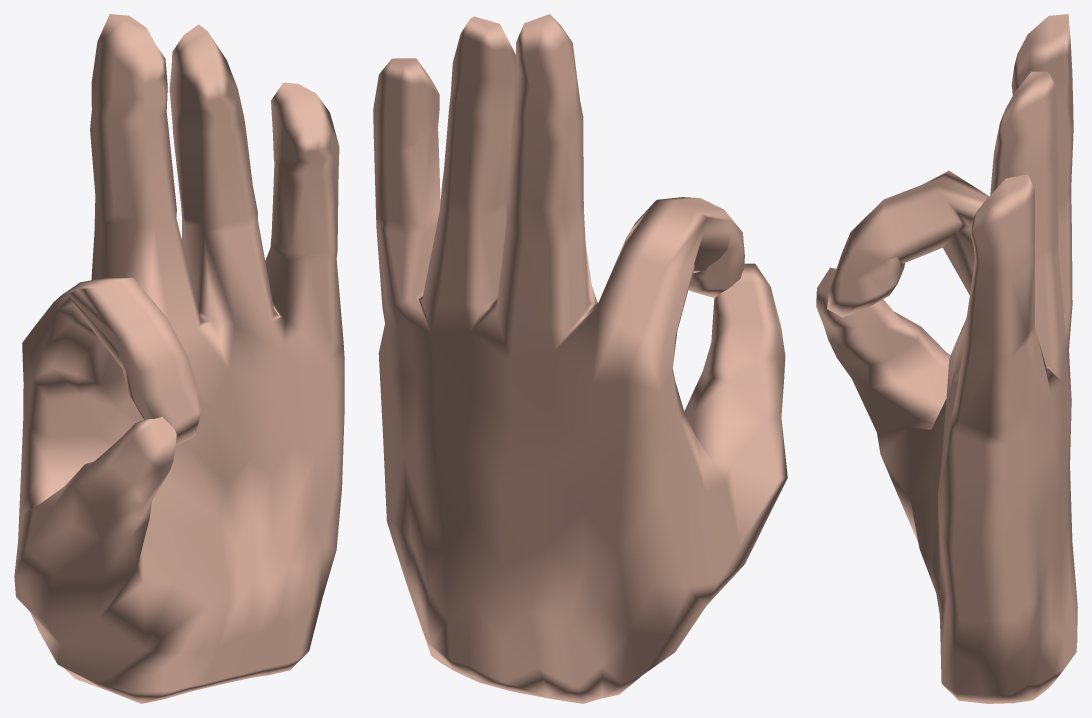
The model's file is MAO_CERTO.obj.
3 views of the same model, side by side, from view 1: azimuth 30°, elevation 25°; view 2: azimuth 150°, elevation 25°; view 3: azimuth 270°, elevation 25° (orthographic). The views are drawn at different scales.
Parts seen in each view (by area): view 1: mao_dir polySurface1; view 2: mao_dir polySurface1; view 3: mao_dir polySurface1.
Part boxes in pixels (x1=…): mao_dir polySurface1: x1=14, y1=14, x2=344, y2=703; mao_dir polySurface1: x1=373, y1=14, x2=787, y2=703; mao_dir polySurface1: x1=816, y1=14, x2=1077, y2=703.
Size of the model in its own units: 135 by 243 by 91.48.
